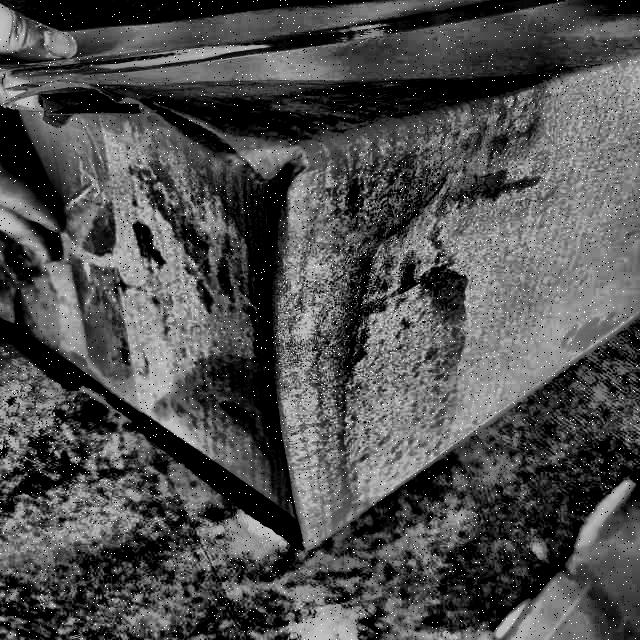box: (0, 1, 639, 557)
wet: (155, 76, 537, 493)
